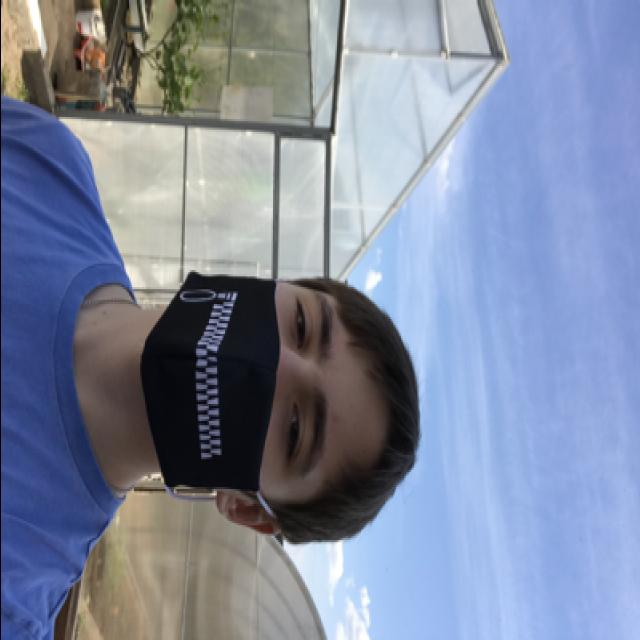mask: (141, 272, 349, 508)
